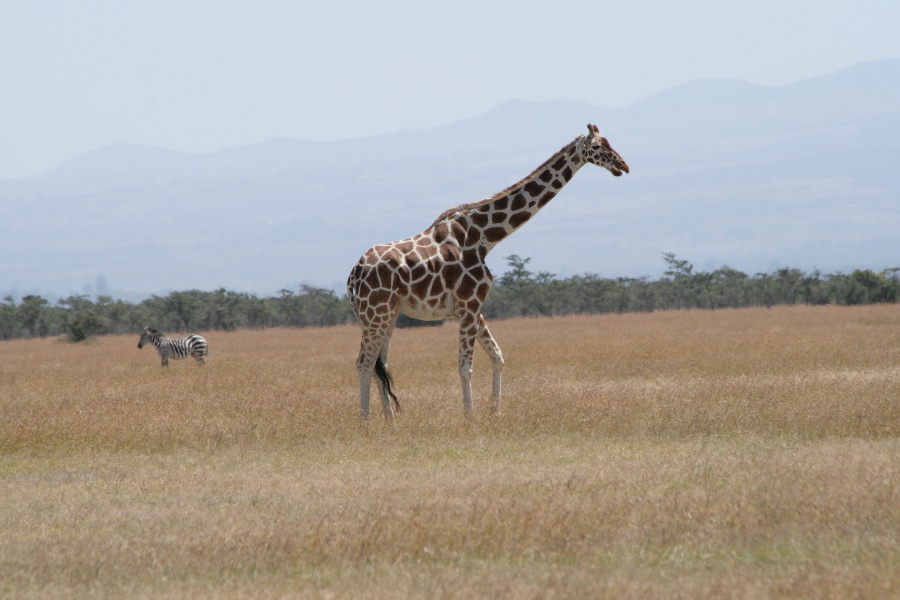giraffe: (338, 118, 634, 434)
